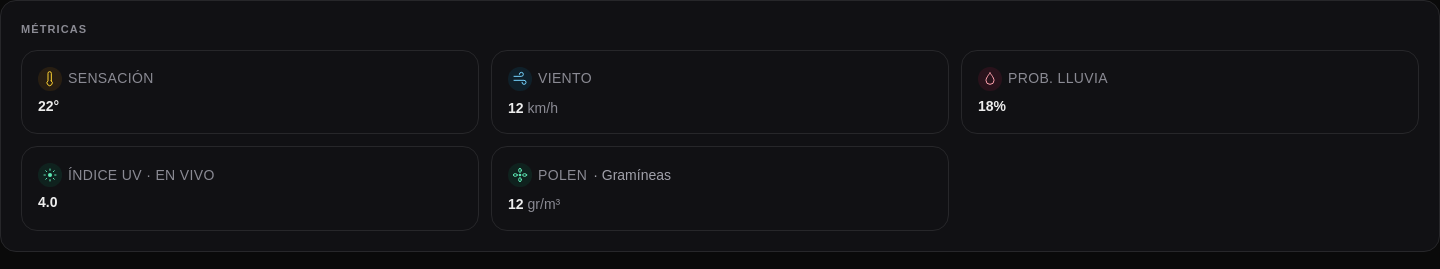
AirConditionsGrid › toggles the pollen tile between grass and birch on tap
The image size is (1440, 269).
Click the button "Polen · Gramíneas 12 gr/m³" at (563, 175), box [491,146,949,231]
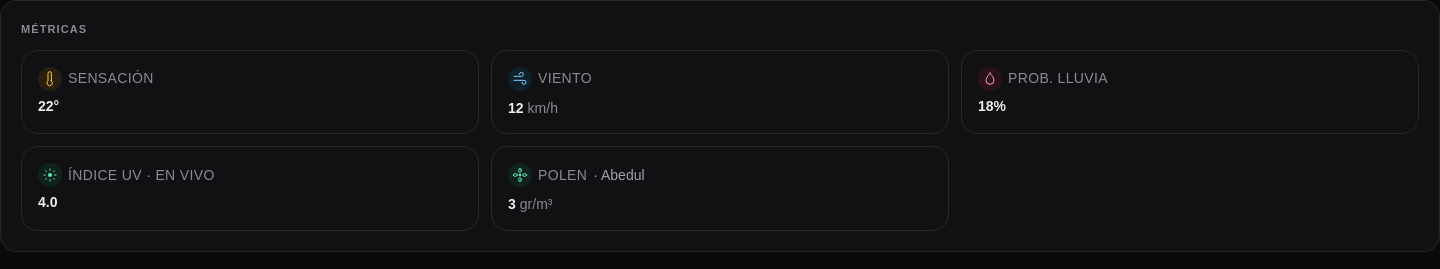
Now the text "3" is shown, box [508,197,516,211]
Now the text "Abedul" is shown, box [601,167,645,183]
Now the text "Gramíneas" is gone
Click the button "Polen · Abedul 3 gr/m³" at (563, 175), box [491,146,949,231]
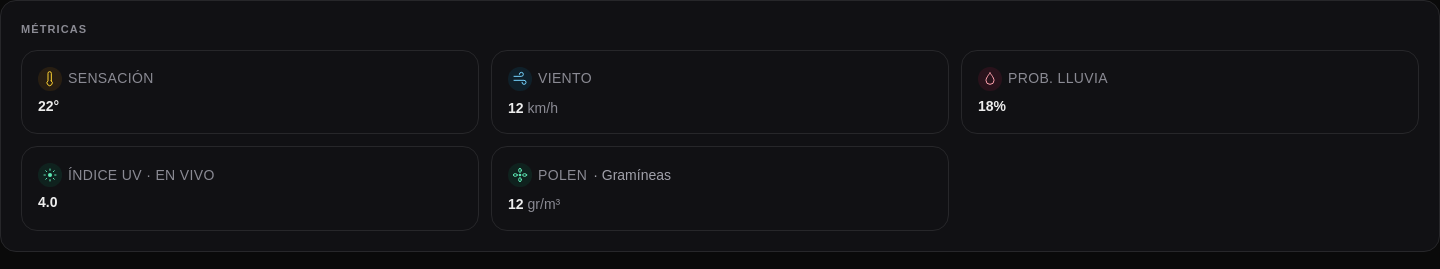
Expected: the text "12" is shown, [508,100,524,114]
Now the text "Gramíneas" is shown, box [602,167,671,183]
